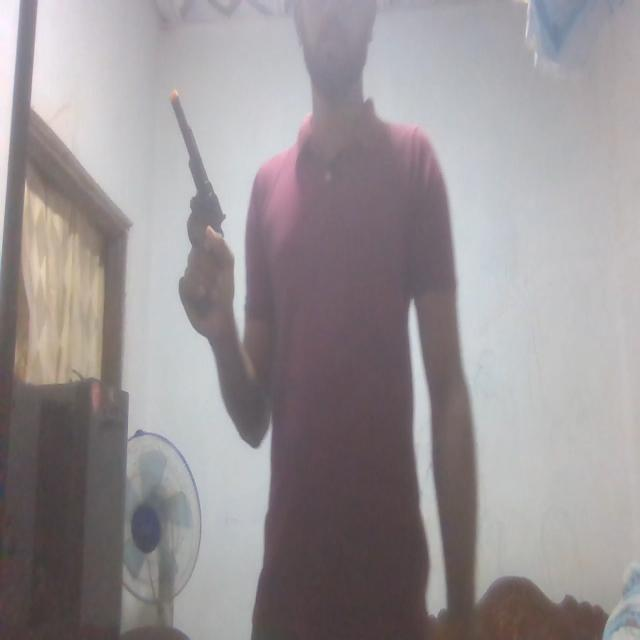Gun_Holder: (156, 84, 232, 310)
Person: (194, 0, 485, 640)
